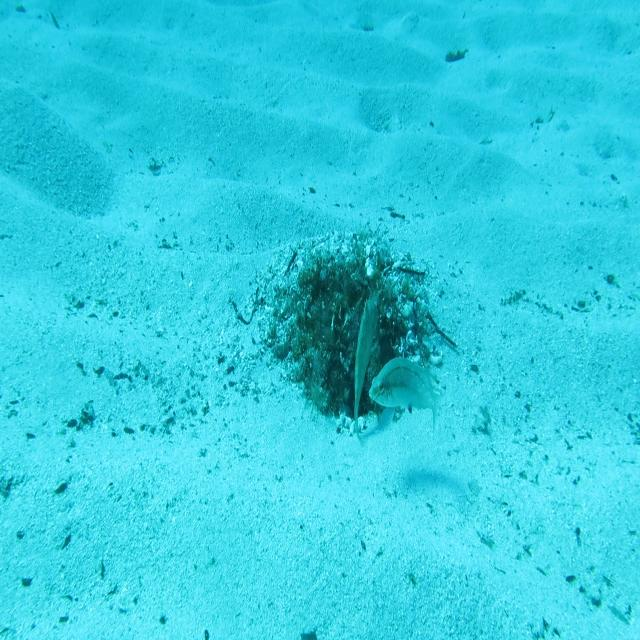FAN: (351, 292, 381, 451)
core_nest: (321, 274, 367, 308)
female: (368, 355, 443, 440)
nest: (248, 226, 446, 457)
vegetation: (443, 48, 470, 66)
